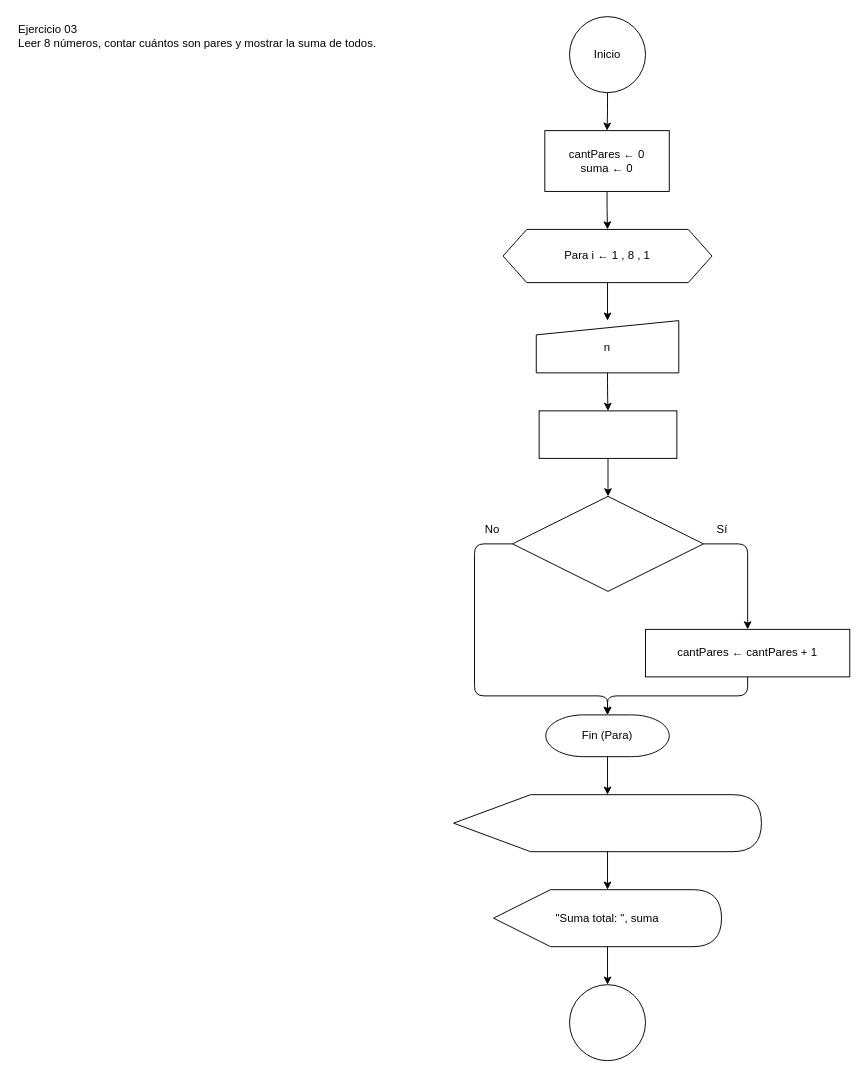
Some shapes in this 866 by 1077 pixel diagram are drawn without their labels. The shapes that lost their labels are listed below. From the top down, each one's box as (x1, y1, x2, y2) in pixels, then its label:
(538, 410, 677, 458): suma ← suma + n
(512, 495, 703, 591): n MOD 2 = 0
(453, 794, 761, 852): "Cantidad de pares: ", cantPares
(569, 984, 646, 1061): Fin
